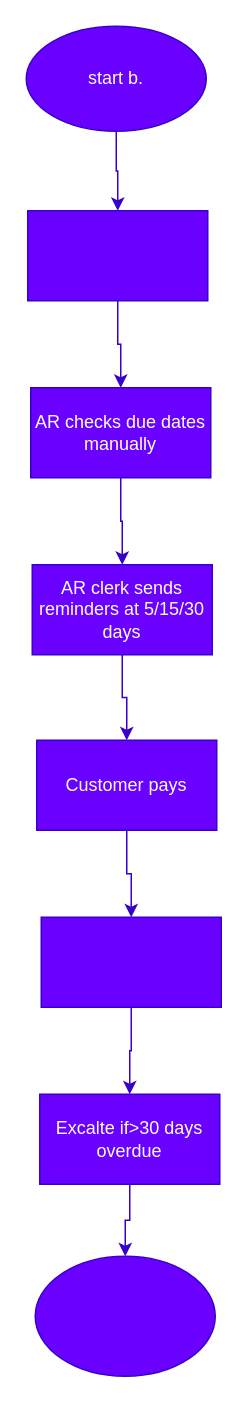
Some shapes in this 248 by 1403 pixel diagram are drawn without their labels. Here are the shapes that lost their labels. From the top down, the centre of each, then its label:
(x=117, y=255): Inovice created
(x=130, y=961): AR clerk updates ledger manually
(x=124, y=1315): End
